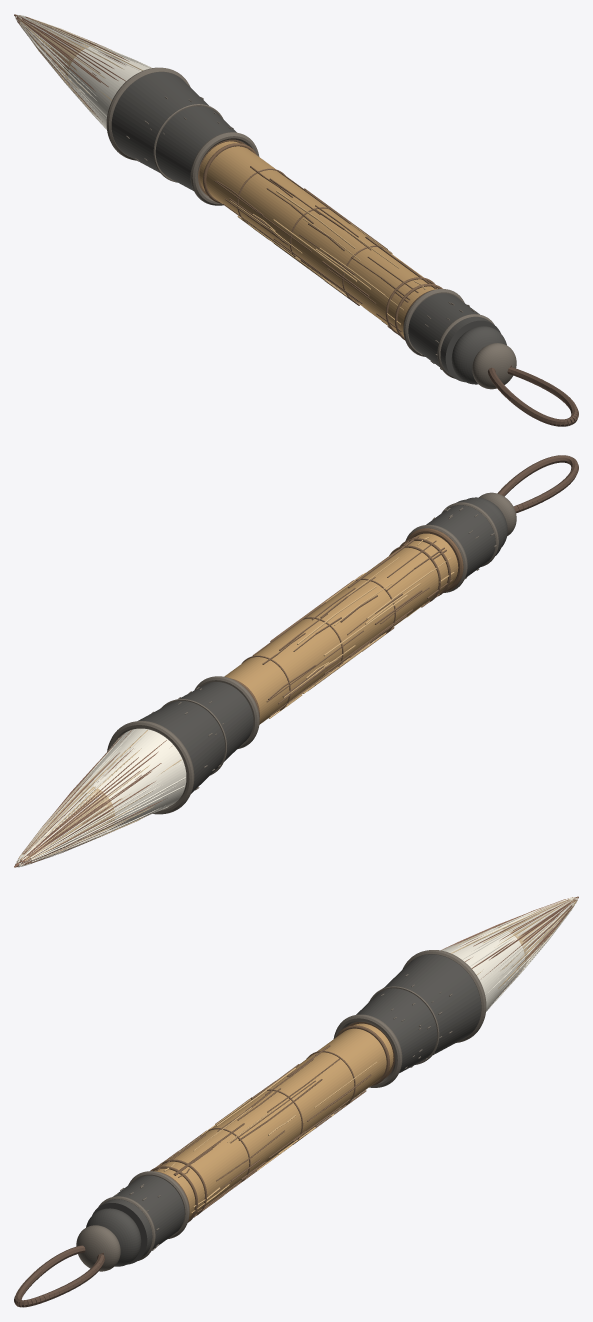
File: wooden_hair_calligraphy_brush.glb
3 renders of one model, top to bottom at view 1: azimuth 30°, elevation 25°; view 2: azimuth 150°, elevation 25°; view 3: azimuth 330°, elevation 25°, orthographic.
Parts seen in each view (by area): view 1: single_straight_wooden_shaft, tapered_black_lacquer_ferrule, aged_black_top_cap_cylinder, soft_off_white_bristle_root_bundle, irregular_dark_wood_grain_on_handle, raised_off_white_individual_hair_strands, raised_dark_brown_tip_hair_strands, subtle_light_wood_grain_on_handle, dark_brown_oval_hanging_cord_loop, rounded_top_cap_dome, small_rounded_hanging_cord_button, raised_tan_individual_hair_strands (+3 smaller); view 2: single_straight_wooden_shaft, tapered_black_lacquer_ferrule, soft_off_white_bristle_root_bundle, raised_off_white_individual_hair_strands, raised_dark_brown_tip_hair_strands, irregular_dark_wood_grain_on_handle, aged_black_top_cap_cylinder, raised_tan_individual_hair_strands, subtle_light_wood_grain_on_handle, dark_brown_oval_hanging_cord_loop, ferrule_bottom_raised_black_ring, tan_middle_tapered_hair_bundle (+3 smaller); view 3: single_straight_wooden_shaft, tapered_black_lacquer_ferrule, aged_black_top_cap_cylinder, soft_off_white_bristle_root_bundle, irregular_dark_wood_grain_on_handle, raised_off_white_individual_hair_strands, dark_brown_oval_hanging_cord_loop, rounded_top_cap_dome, small_rounded_hanging_cord_button, raised_dark_brown_tip_hair_strands, raised_tan_individual_hair_strands, ferrule_top_raised_black_ring (+3 smaller).
Boxes of the visible parts, x1,y1,x2,y2 form: single_straight_wooden_shaft: [199, 141, 437, 336]; tapered_black_lacquer_ferrule: [111, 72, 236, 190]; aged_black_top_cap_cylinder: [408, 293, 500, 382]; soft_off_white_bristle_root_bundle: [68, 46, 151, 129]; irregular_dark_wood_grain_on_handle: [214, 166, 439, 335]; raised_off_white_individual_hair_strands: [15, 15, 151, 129]; raised_dark_brown_tip_hair_strands: [16, 15, 129, 121]; subtle_light_wood_grain_on_handle: [230, 190, 425, 325]; dark_brown_oval_hanging_cord_loop: [488, 365, 578, 426]; rounded_top_cap_dome: [451, 326, 506, 384]; small_rounded_hanging_cord_button: [472, 343, 516, 389]; raised_tan_individual_hair_strands: [18, 15, 142, 116]; single_straight_wooden_shaft: [224, 533, 458, 724]; tapered_black_lacquer_ferrule: [138, 682, 253, 793]; soft_off_white_bristle_root_bundle: [76, 728, 186, 829]; raised_off_white_individual_hair_strands: [15, 730, 185, 867]; raised_dark_brown_tip_hair_strands: [16, 730, 171, 865]; irregular_dark_wood_grain_on_handle: [252, 536, 452, 716]; aged_black_top_cap_cylinder: [426, 499, 503, 578]; raised_tan_individual_hair_strands: [17, 730, 181, 866]; subtle_light_wood_grain_on_handle: [269, 537, 454, 718]; dark_brown_oval_hanging_cord_loop: [497, 455, 578, 513]; ferrule_bottom_raised_black_ring: [107, 721, 194, 814]; tan_middle_tapered_hair_bundle: [53, 785, 115, 846]; single_straight_wooden_shaft: [154, 1023, 393, 1218]; tapered_black_lacquer_ferrule: [356, 954, 481, 1073]; aged_black_top_cap_cylinder: [92, 1175, 184, 1264]; soft_off_white_bristle_root_bundle: [441, 928, 524, 1011]; irregular_dark_wood_grain_on_handle: [151, 1045, 371, 1217]; raised_off_white_individual_hair_strands: [449, 897, 577, 1011]; dark_brown_oval_hanging_cord_loop: [14, 1245, 104, 1307]; rounded_top_cap_dome: [86, 1208, 141, 1266]; small_rounded_hanging_cord_button: [76, 1225, 120, 1271]; raised_dark_brown_tip_hair_strands: [441, 897, 577, 996]; raised_tan_individual_hair_strands: [451, 897, 577, 999]; ferrule_top_raised_black_ring: [333, 1014, 402, 1087].
Bounding box in the file's own units: 0.476 × 0.476 × 5.3.
